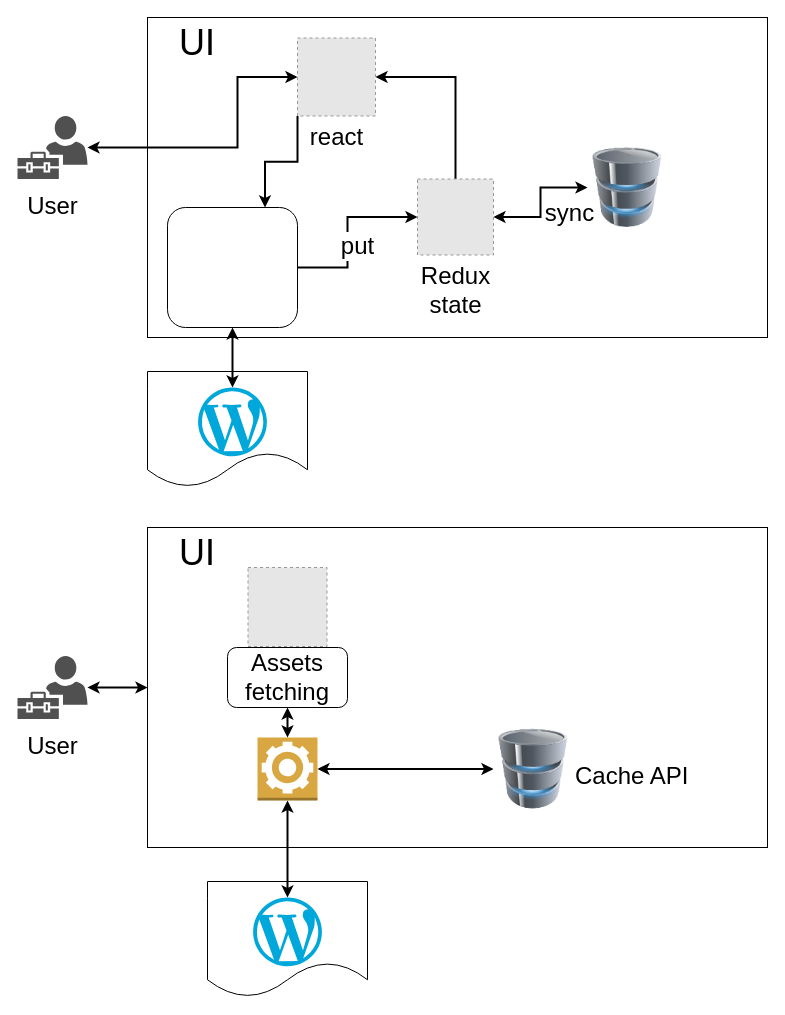
Image size: 785x1015. Some labels were removed from this diagram. Grey dashed boxes stand in for pictures. Each missing label, with the box of its shape:
Data fetching and posting: (166, 206, 298, 328)
Indexed DB: (587, 147, 667, 227)
Service worker: (256, 736, 318, 800)
